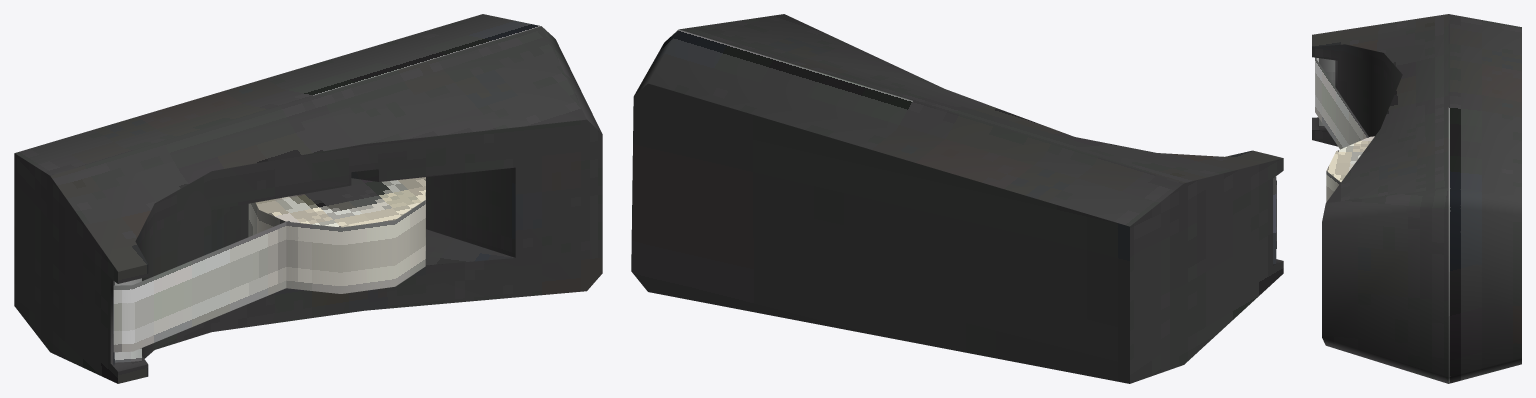
File: p_rus_tape_dispenser_LOD1.obj
The picture shows the model from 3 angles, left to right: view 1: azimuth 30°, elevation 25°; view 2: azimuth 150°, elevation 25°; view 3: azimuth 270°, elevation 25°; orthographic projection. The views are drawn at different scales.
Parts seen in each view (by area): view 1: mtl_p_rus_tape_dispenser; view 2: mtl_p_rus_tape_dispenser; view 3: mtl_p_rus_tape_dispenser.
Part boxes in pixels (x1,y1,x2,y2): mtl_p_rus_tape_dispenser: [14, 14, 602, 383]; mtl_p_rus_tape_dispenser: [631, 14, 1283, 383]; mtl_p_rus_tape_dispenser: [1312, 14, 1521, 383].
Size of the model in its own units: 18.39 by 7.94 by 7.72.
